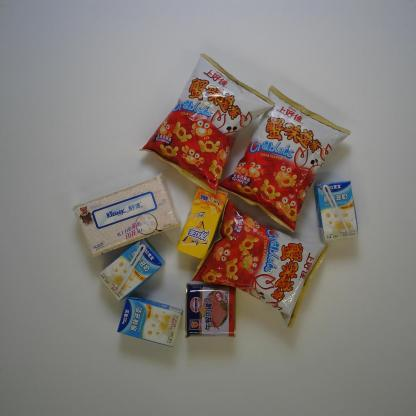Canned Food: (180, 281, 241, 340)
Drink: (173, 179, 231, 264)
Milk: (98, 235, 166, 303), (113, 296, 185, 350), (312, 178, 361, 244)
Puffed Food: (134, 49, 276, 196), (214, 85, 352, 233), (188, 196, 332, 330)
Tissue: (69, 172, 181, 262)
